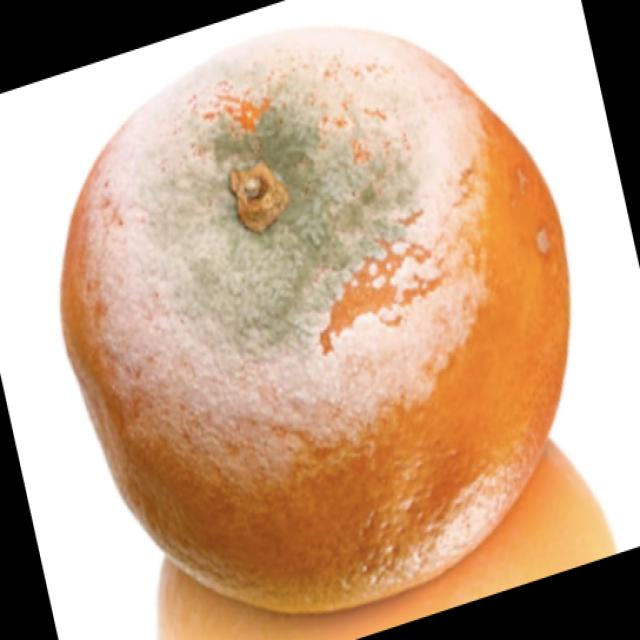orange: (61, 29, 568, 611)
